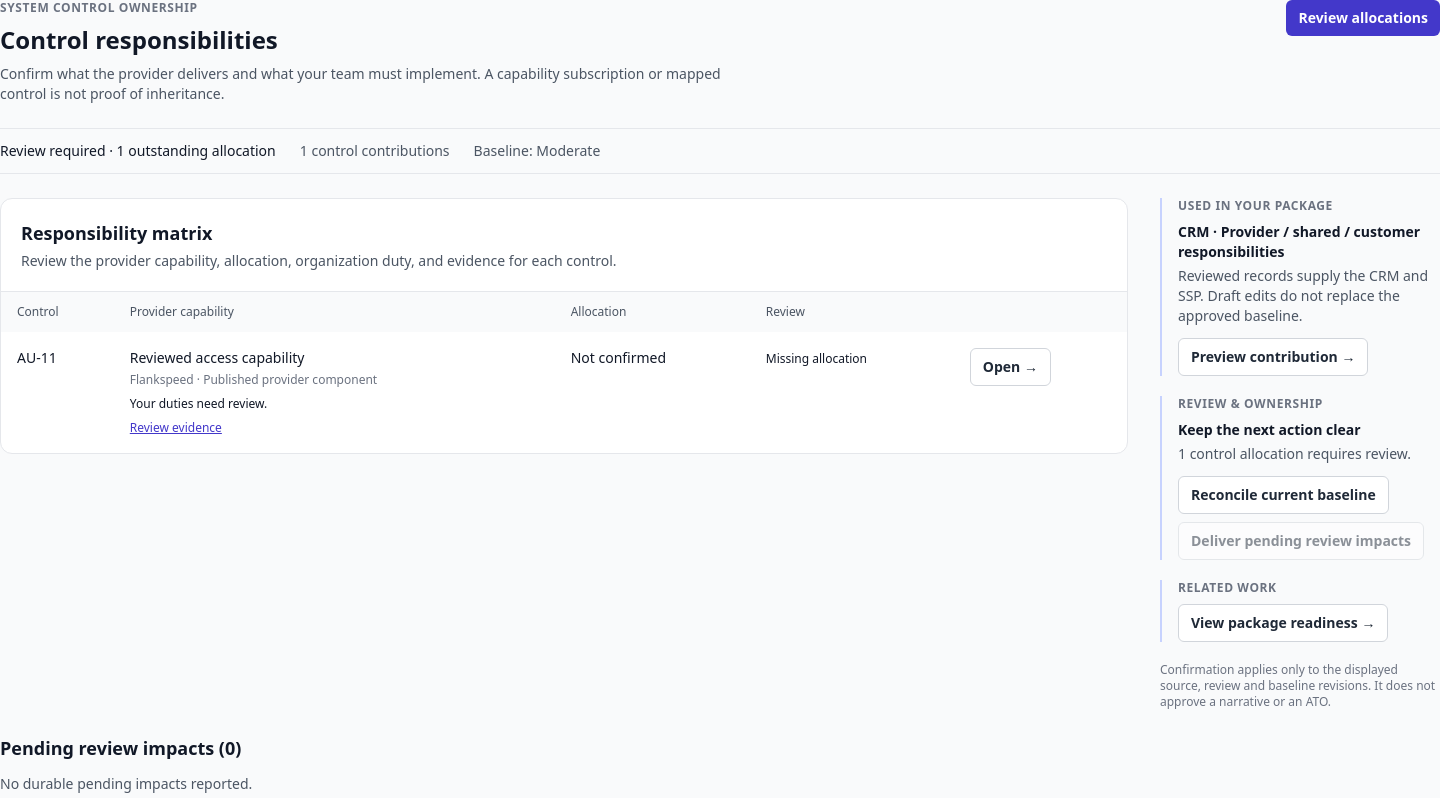
uses the simple mock hierarchy with a compact source card, task outcome and fixed footer
Click the button with aria-label "Open AU-11 responsibility" at (1010, 367), box [970,348,1051,386]
(page scrolled)
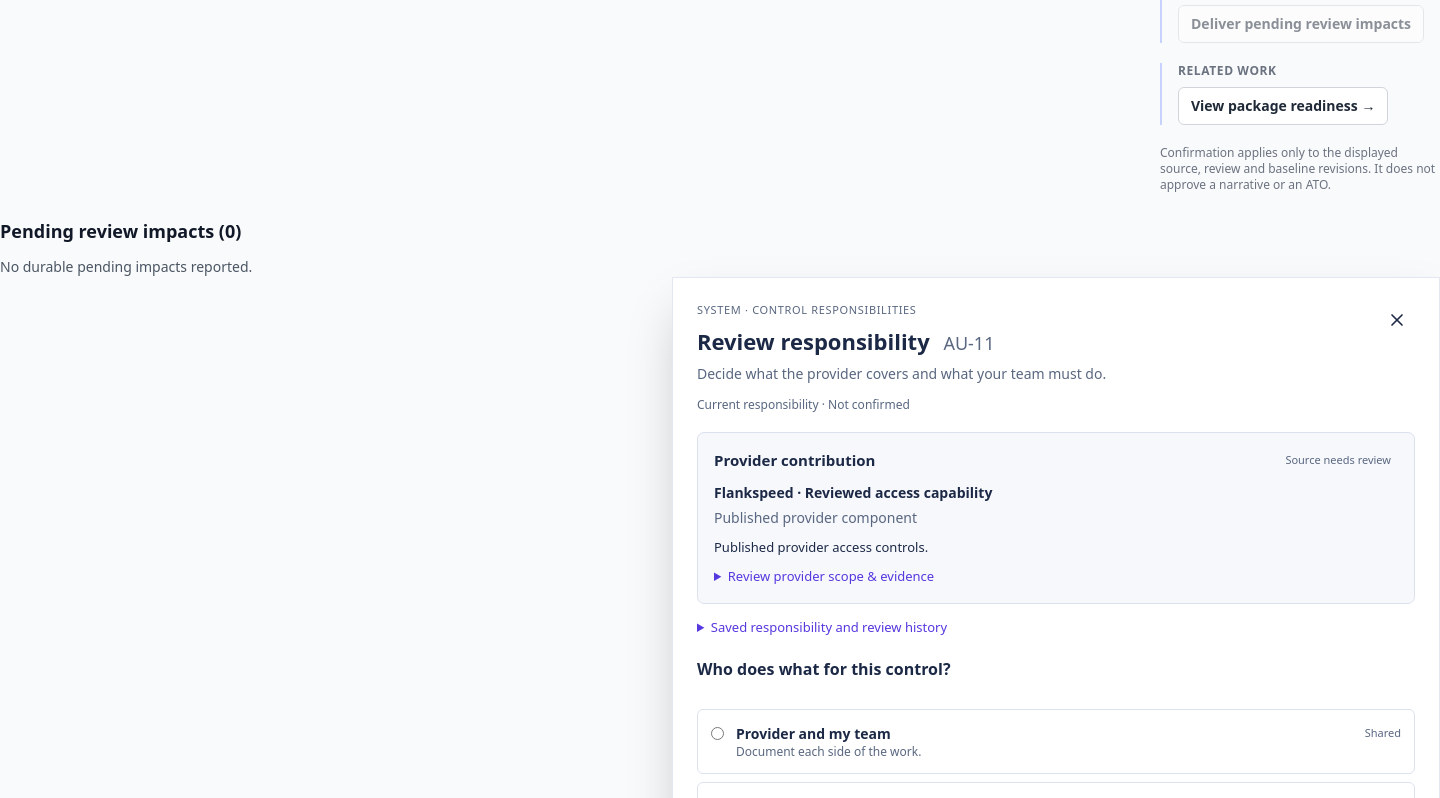
Check: the text "Current responsibility · Not confirmed" is shown, box [697,396,910,413]
